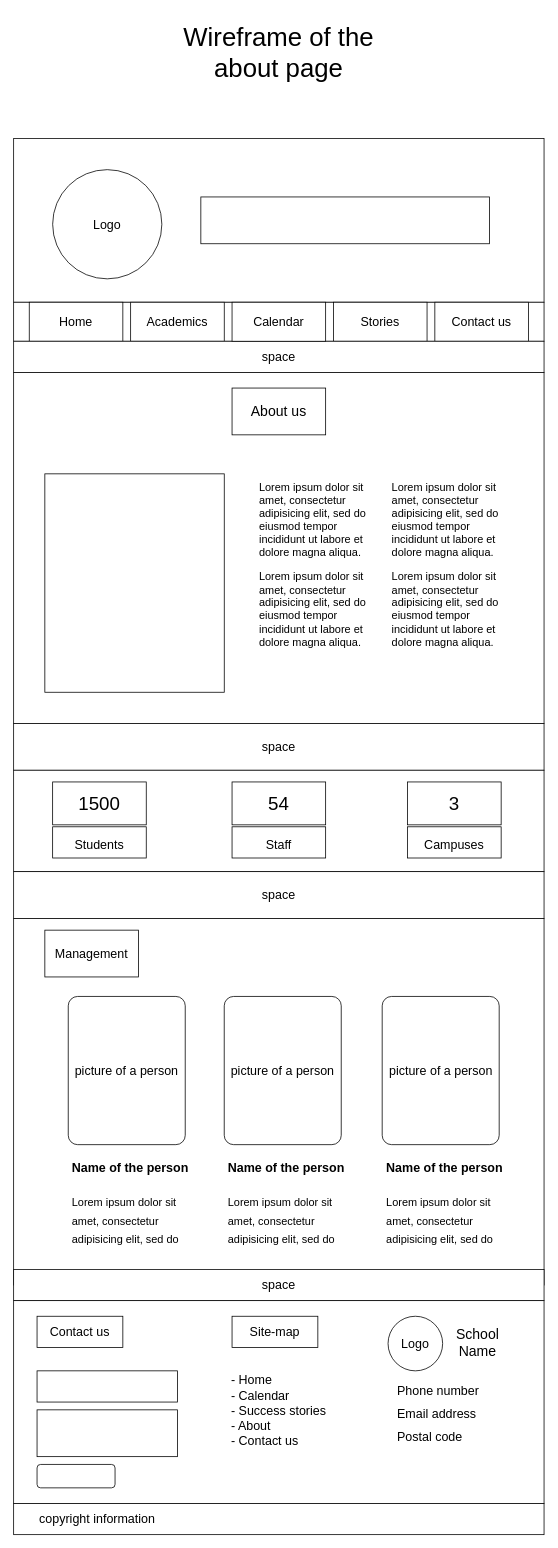
Some shapes in this 558 by 1548 pixel diagram are drawn without their labels. The centre of each missing label's shape, as x and y in pixels:
"email field" goes at [106,1386].
"image, describing the school" goes at [134,582].
"message field" goes at [106,1433].
"Moto" goes at [344,220].
"submit" goes at [75,1476].
